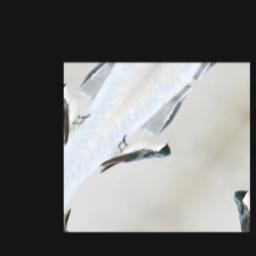Swallow: (93, 121, 178, 197)
